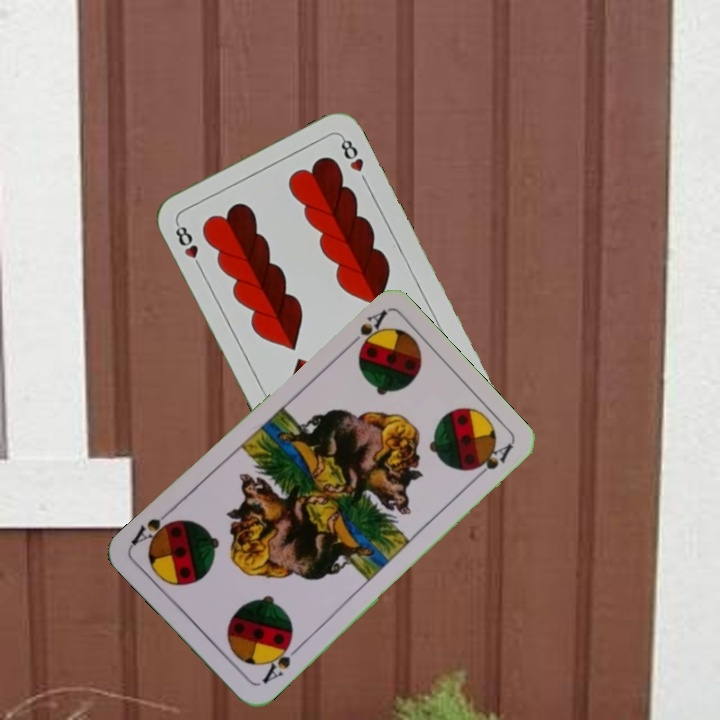H8: (171, 218, 205, 273)
SA: (257, 635, 303, 687), (341, 307, 389, 355)
